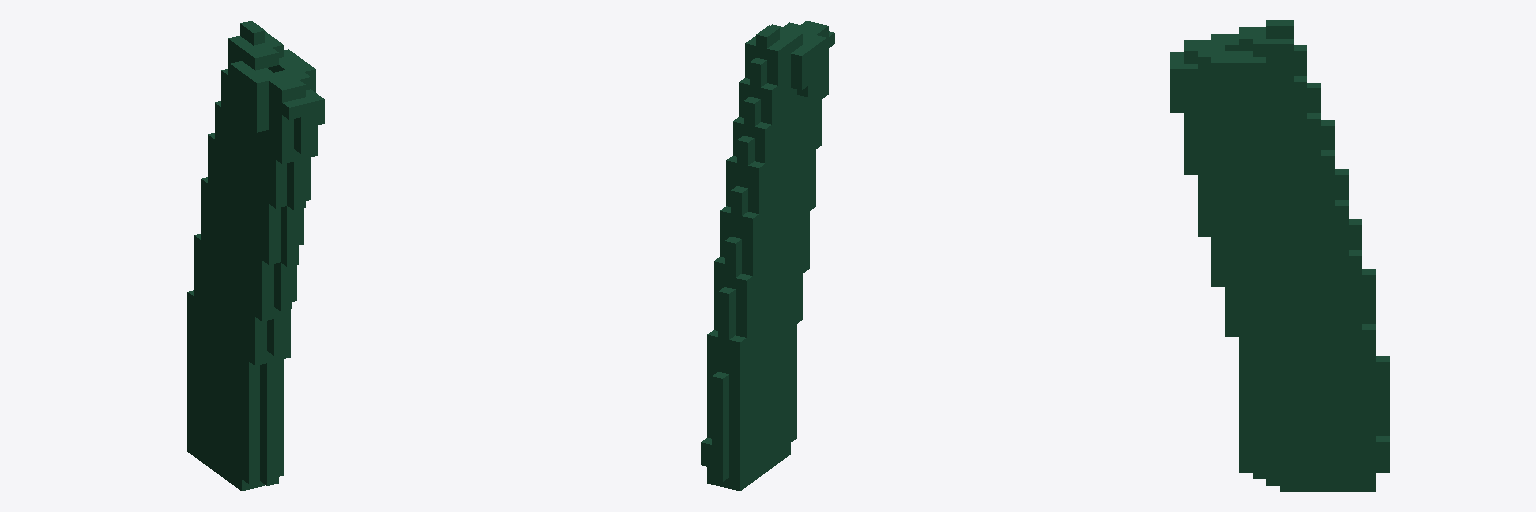
The robot description file, URDF, robot "physxnet_1002_strict":
<?xml version='1.0' encoding='utf-8'?>
<robot name="physxnet_1002_strict">
  <link name="l_world">
    <inertial>
      <origin xyz="0 0 0" rpy="0 0 0" />
      <mass value="0.0100000000" />
      <inertia ixx="0.0000001667" ixy="0.0" ixz="0.0" iyy="0.0000001667" iyz="0.0" izz="0.0000001667" />
    </inertial>
  </link><link name="l_0">
    <inertial>
      <origin xyz="0.0009979855 -0.0144224484 0.0669813419" rpy="0 0 0" />
      <mass value="0.0109385845" />
      <inertia ixx="0.0000293272" ixy="0.0" ixz="0.0" iyy="0.0000251927" iyz="0.0" izz="0.0000042600" />
    </inertial><visual>
      <origin xyz="0 0 0" rpy="0 0 0" />
      <geometry>
        <mesh filename="../rigid_visuals/part_000_visual.obj" scale="1 1 1" />
      </geometry><material name="mat_l_0">
        <color rgba="0.32548 0.48041 0.93131 1.00000" />
      </material>
    </visual><collision>
      <origin xyz="0 0 0" rpy="0 0 0" />
      <geometry>
        <mesh filename="part_000_collision.obj" scale="1 1 1" />
      </geometry>
    </collision>
  </link><joint name="joint_fixed_l_world_l_0" type="fixed">
    <parent link="l_world" />
    <child link="l_0" />
    <origin xyz="0 0 0" rpy="0 0 0" />
  </joint><link name="l_1">
    <inertial>
      <origin xyz="0.0000000000 0.0174437974 -0.0779269265" rpy="0 0 0" />
      <mass value="0.0022035997" />
      <inertia ixx="0.0000045172" ixy="0.0" ixz="0.0" iyy="0.0000038502" iyz="0.0" izz="0.0000007363" />
    </inertial><visual>
      <origin xyz="0 0 0" rpy="0 0 0" />
      <geometry>
        <mesh filename="../rigid_visuals/part_001_visual.obj" scale="1 1 1" />
      </geometry><material name="mat_l_1">
        <color rgba="0.15447 0.35718 0.26453 1.00000" />
      </material>
    </visual><collision>
      <origin xyz="0 0 0" rpy="0 0 0" />
      <geometry>
        <mesh filename="part_001_collision.obj" scale="1 1 1" />
      </geometry>
    </collision>
  </link><joint name="joint_fixed_l_0_l_1" type="fixed">
    <parent link="l_0" />
    <child link="l_1" />
    <origin xyz="0 0 0" rpy="0 0 0" />
  </joint>
</robot>

--- Render facts (derived) ---
Views: 3 orthographic renders of the robot side by side, from view 1: azimuth 30°, elevation 25°; view 2: azimuth 150°, elevation 25°; view 3: azimuth 270°, elevation 25°.
Robot: physxnet_1002_strict — 3 links, 2 joints (2 fixed); root link l_world; default pose: all joints at 0.
Visible links, largest first — view 1: l_1; view 2: l_1; view 3: l_1.
Link boxes in pixels (bbox=[...]): l_1: bbox=[187, 21, 324, 490]; l_1: bbox=[701, 21, 834, 490]; l_1: bbox=[1170, 20, 1389, 491].
Bounding box of the posed robot: 0.02 × 0.064 × 0.148 m (x, y, z).
Meshes: 2 distinct files referenced, 1 mesh visuals loaded (1 OBJ); not drawn: 1 (reference not matched to a file when rendering).
